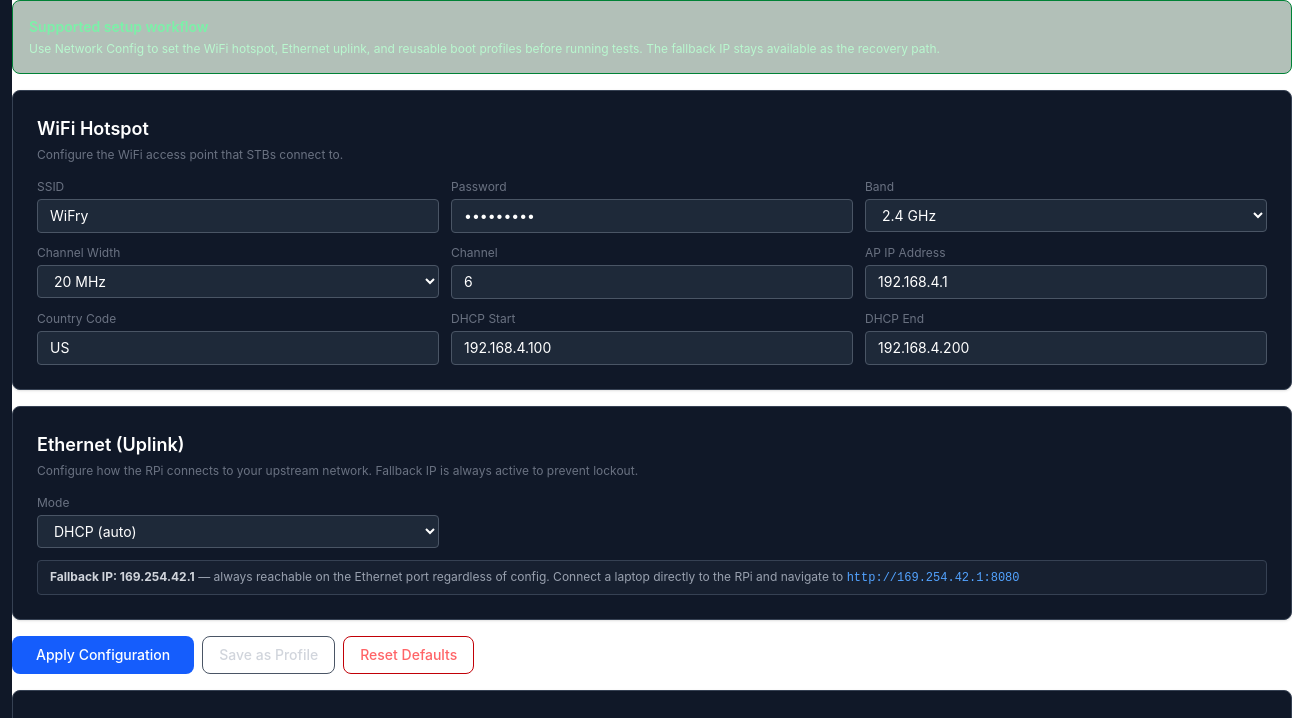
Test: NetworkConfigPanel › applies edited network configuration and shows success feedback
Expected: the heading "Supported setup workflow" is shown, [29, 18, 209, 35]
Replace the text in the field showing "WiFry" below "SSID" with "ReleaseNet" at [238, 216], box [37, 199, 439, 233]
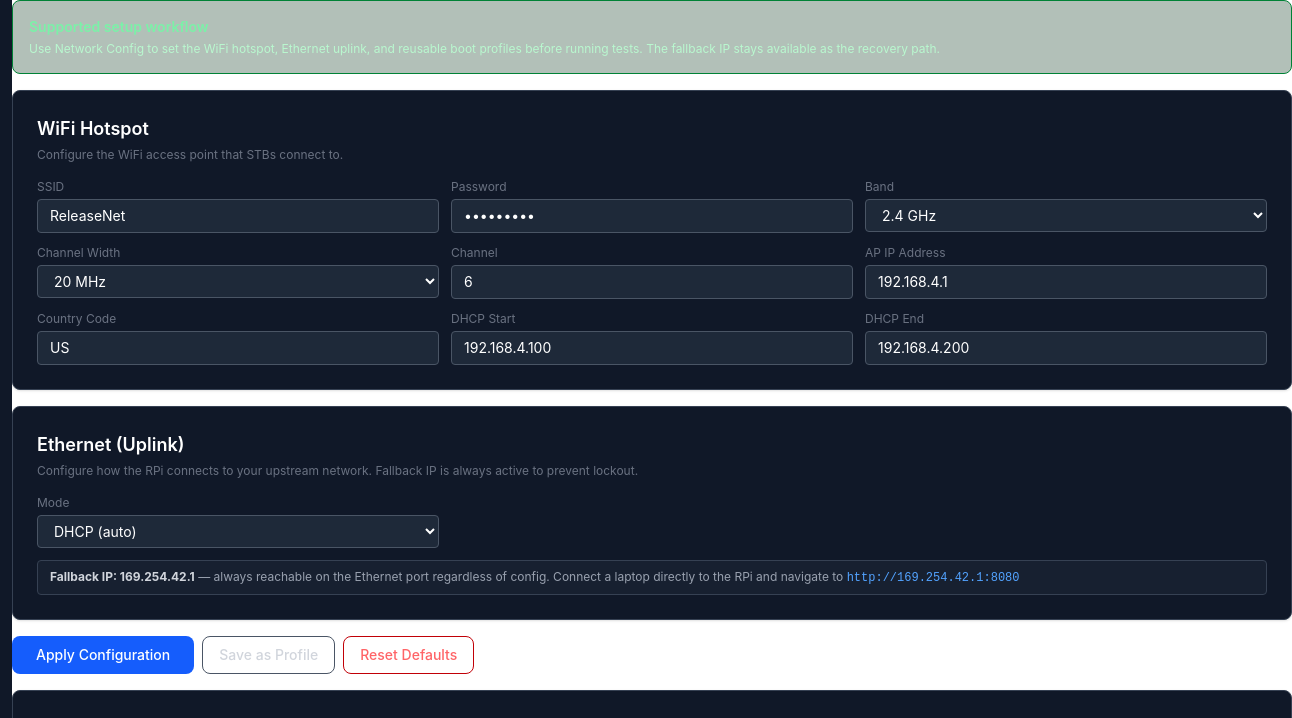
Click the button "Apply Configuration".
click(103, 655)  # box [12, 636, 194, 674]
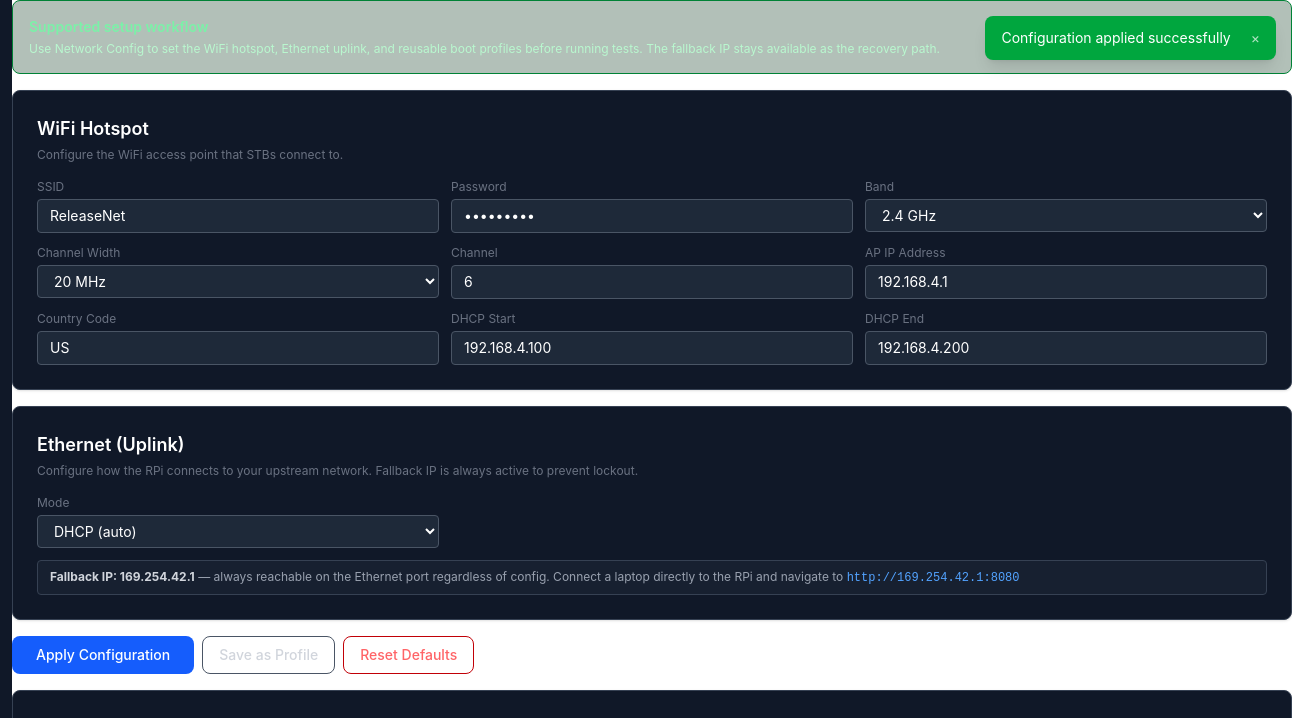
Now the text "Configuration applied successfully" is shown, box [1002, 28, 1231, 48]
